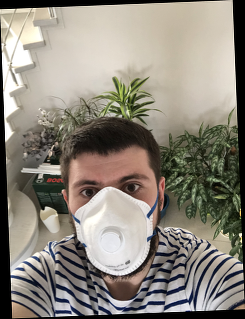with_mask: (70, 161, 156, 280)
